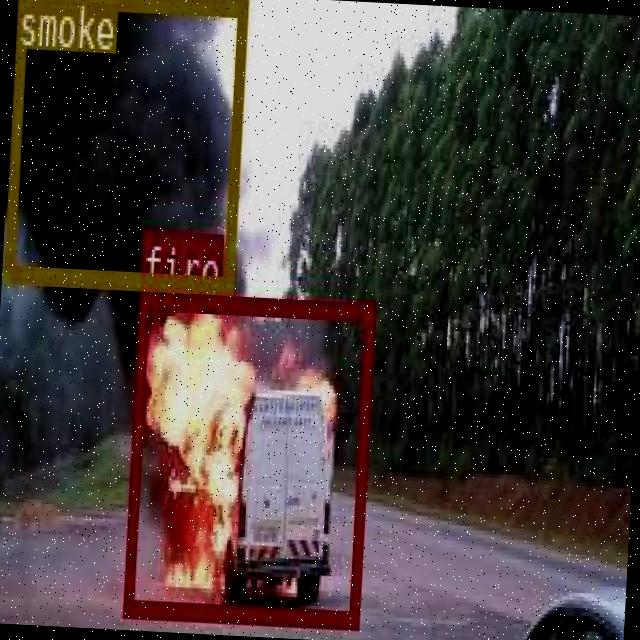fire: (122, 292, 372, 625)
smoke: (4, 0, 247, 289)
